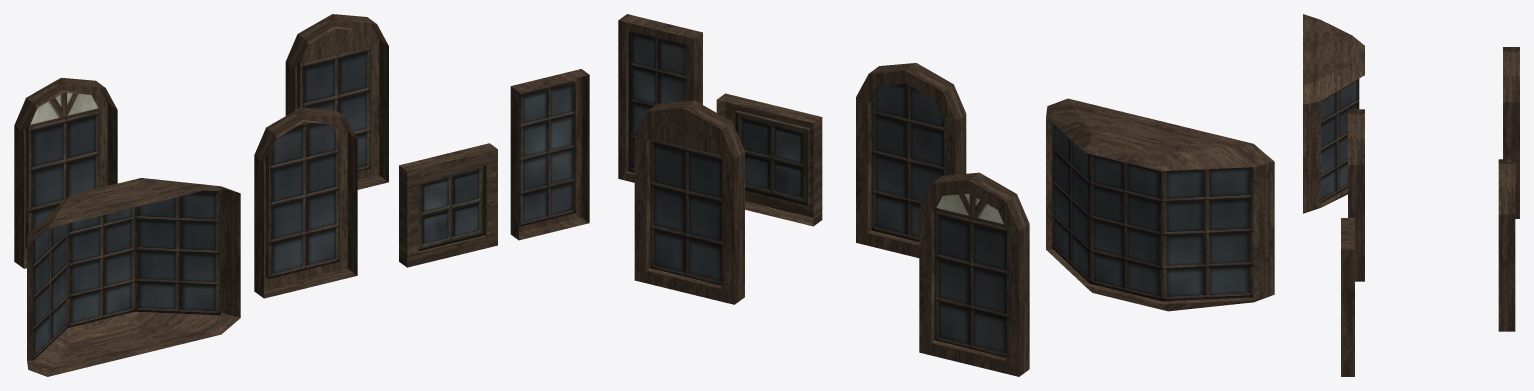
The model's file is WindowsNeutral.fbx.
3 views of the same model, side by side, from view 1: azimuth 30°, elevation 25°; view 2: azimuth 150°, elevation 25°; view 3: azimuth 270°, elevation 25° (orthographic). The views are drawn at different scales.
Parts seen in each view (by area): view 1: 3_Window_6, 3_Window_5, Window_All_3, Window_Frame_9, Window_3, Window_Bottom_3, Small_Window_Frame_4, Window_Frame_6, Window_Frame_3, Frame_3, Window_Bottom_6, Small_Window_3 (+2 smaller); view 2: 3_Window_6, 3_Window_5, Window_Frame_6, Window_Frame_3, Window_Bottom_6, Window_Bottom_3, Window_All_3, Window_Frame_9, Small_Window_3, Window_3, Small_Window_Frame_4, Frame_3 (+2 smaller); view 3: 3_Window_5, 3_Window_6, Window_Frame_6, Window_Frame_9, Window_Frame_3, Frame_3.
Part boxes in pixels (box(x1,y1,x2,y2)): 3_Window_6: box(33, 190, 220, 360); 3_Window_5: box(27, 178, 240, 376); Window_All_3: box(269, 122, 339, 278); Window_Frame_9: box(254, 107, 357, 298); Window_3: box(519, 79, 576, 226); Window_Bottom_3: box(29, 110, 99, 232); Small_Window_Frame_4: box(399, 143, 497, 267); Window_Frame_6: box(285, 14, 388, 189); Window_Frame_3: box(14, 77, 117, 268); Frame_3: box(510, 69, 589, 240); Window_Bottom_6: box(300, 47, 370, 171); Small_Window_3: box(418, 165, 484, 251); 3_Window_6: box(1052, 123, 1252, 301); 3_Window_5: box(1046, 98, 1274, 311); Window_Frame_6: box(634, 100, 744, 304); Window_Frame_3: box(919, 172, 1029, 376); Window_Bottom_6: box(650, 138, 722, 285); Window_Bottom_3: box(934, 210, 1006, 357); Window_All_3: box(871, 84, 943, 241); Window_Frame_9: box(856, 63, 966, 257); Small_Window_3: box(735, 112, 808, 205); Window_3: box(628, 31, 686, 172); Small_Window_Frame_4: box(716, 93, 822, 226); Frame_3: box(618, 14, 702, 182); 3_Window_5: box(1303, 14, 1364, 213); 3_Window_6: box(1321, 79, 1359, 203); Window_Frame_6: box(1498, 159, 1515, 331); Window_Frame_9: box(1348, 109, 1364, 281); Window_Frame_3: box(1503, 47, 1519, 218); Frame_3: box(1341, 220, 1354, 376).
Bounding box in the file's own units: 824 × 233 × 309.
6 materials, 6 textured.
